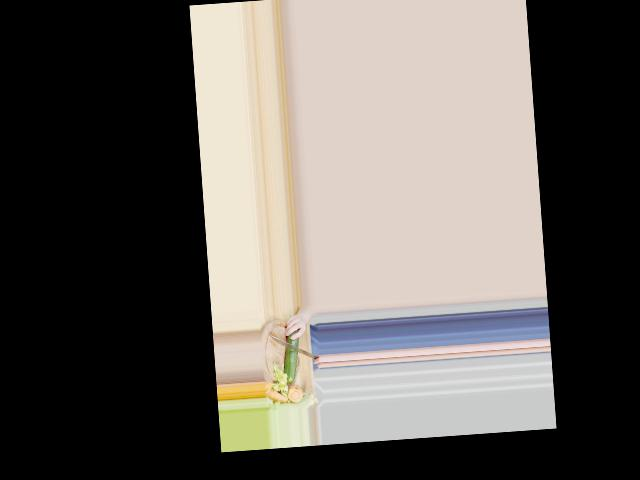cucumber: (281, 329, 302, 384)
